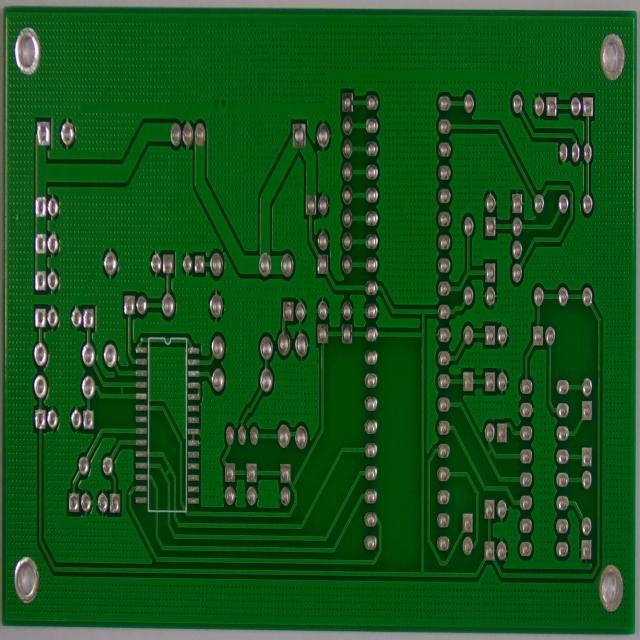short: (161, 463, 176, 485), (116, 380, 129, 404), (484, 444, 498, 466)
